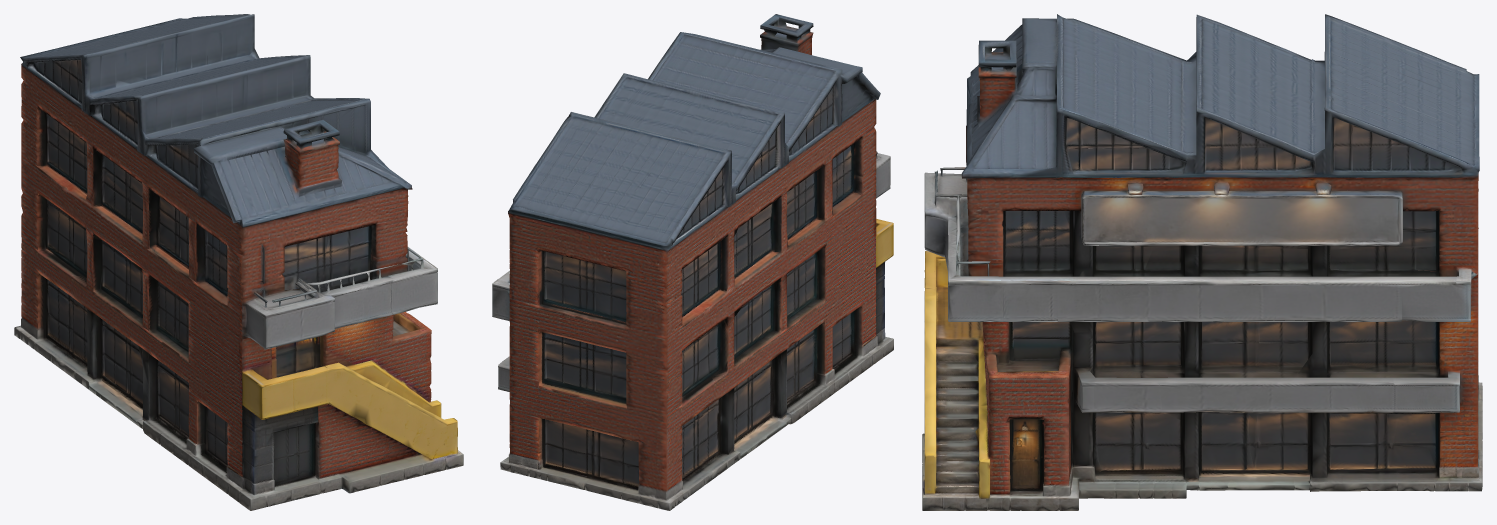
Rendered from level-3-web.glb.
The picture shows the model from 3 angles, left to right: view 1: azimuth 30°, elevation 25°; view 2: azimuth 150°, elevation 25°; view 3: azimuth 270°, elevation 25°; orthographic projection. The views are drawn at different scales.
Visible parts, largest first — view 1: tripo_node_3c81cc34-615e-4ac8-a16f-83e4e6678e96; view 2: tripo_node_3c81cc34-615e-4ac8-a16f-83e4e6678e96; view 3: tripo_node_3c81cc34-615e-4ac8-a16f-83e4e6678e96.
Boxes of the visible parts, bbox=[...] form: tripo_node_3c81cc34-615e-4ac8-a16f-83e4e6678e96: bbox=[14, 14, 463, 510]; tripo_node_3c81cc34-615e-4ac8-a16f-83e4e6678e96: bbox=[492, 14, 893, 510]; tripo_node_3c81cc34-615e-4ac8-a16f-83e4e6678e96: bbox=[922, 14, 1482, 510].
Bounding box in the file's own units: 0.4937 × 0.7558 × 0.9792.
1 material, 1 textured.
